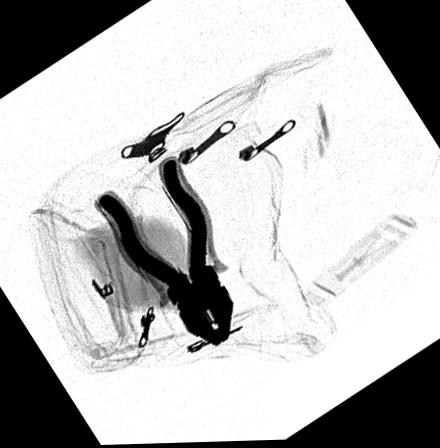Pliers: (90, 155, 239, 352)
